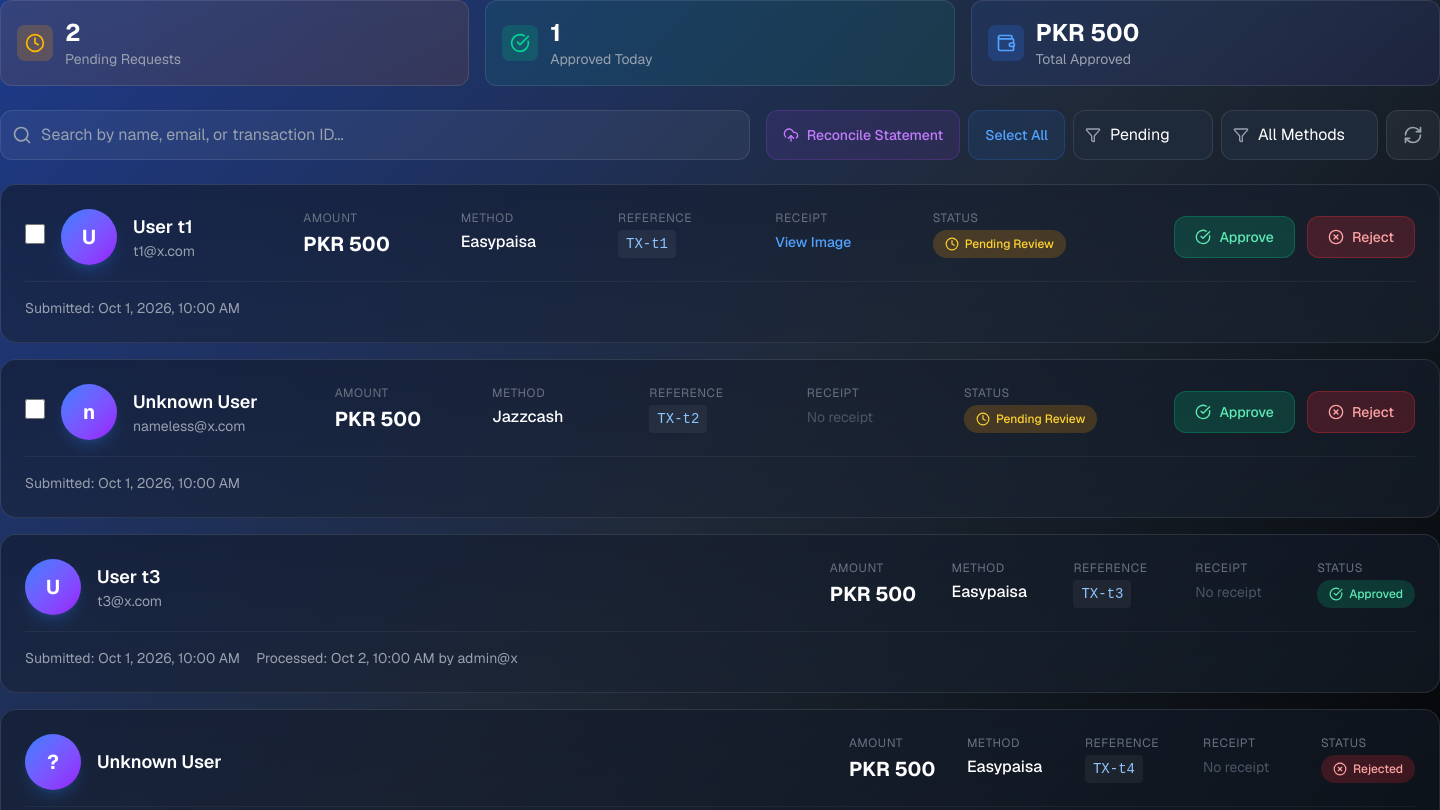
Test: WalletTransactionsManager › selects pending deposits and approves them in bulk
The width and height of the screenshot is (1440, 810).
Click the checkbox in the row of "User t1". click: (35, 234)
box: [25, 224, 45, 244]
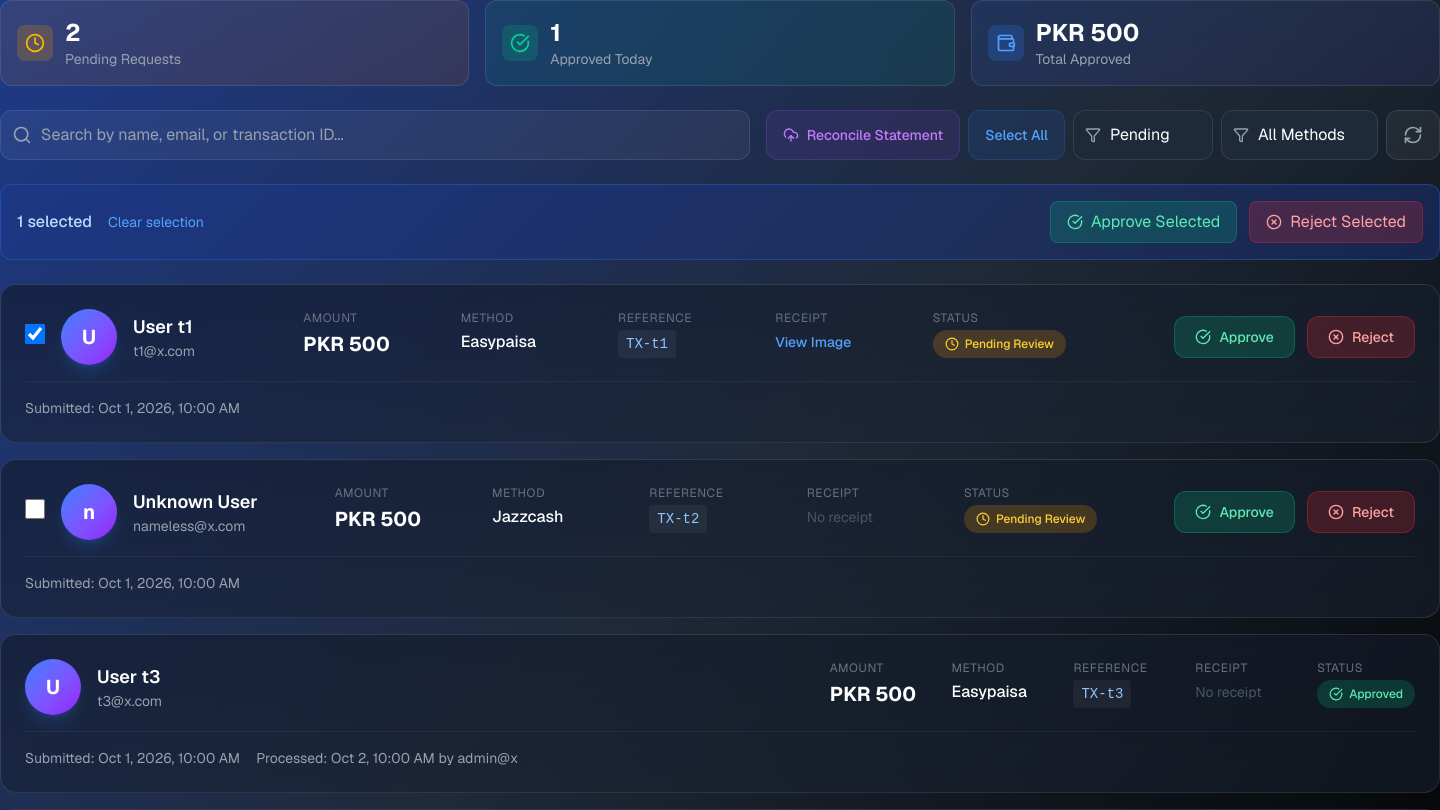
Check: the text "1 selected" is shown, box [17, 210, 92, 234]
Click the checkbox in the row of "User t1". click: (35, 334)
box: [25, 324, 45, 344]
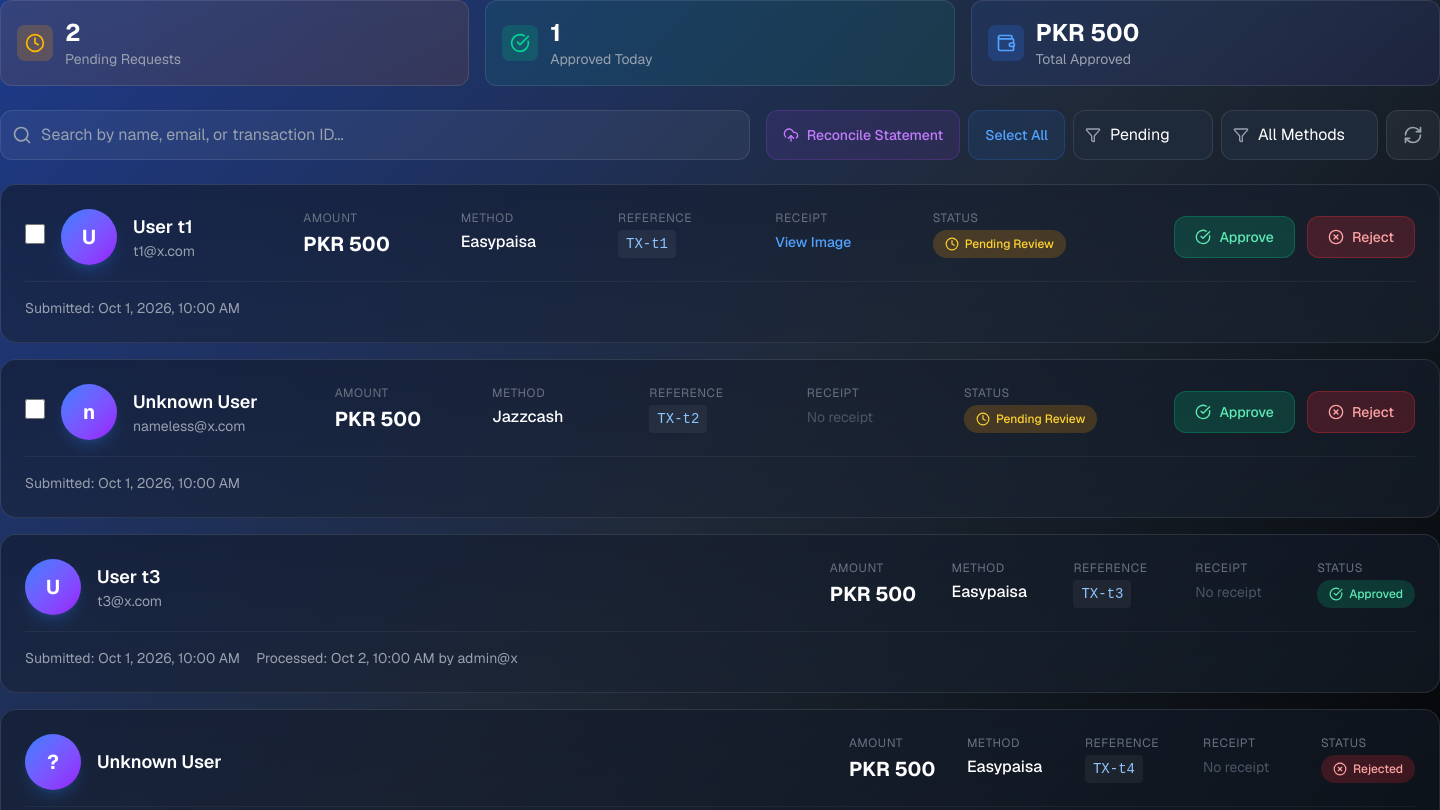
Check: the text "selected" is gone
Click the button titled "Select all pending on this page". click: (1017, 135)
box: [968, 110, 1065, 160]
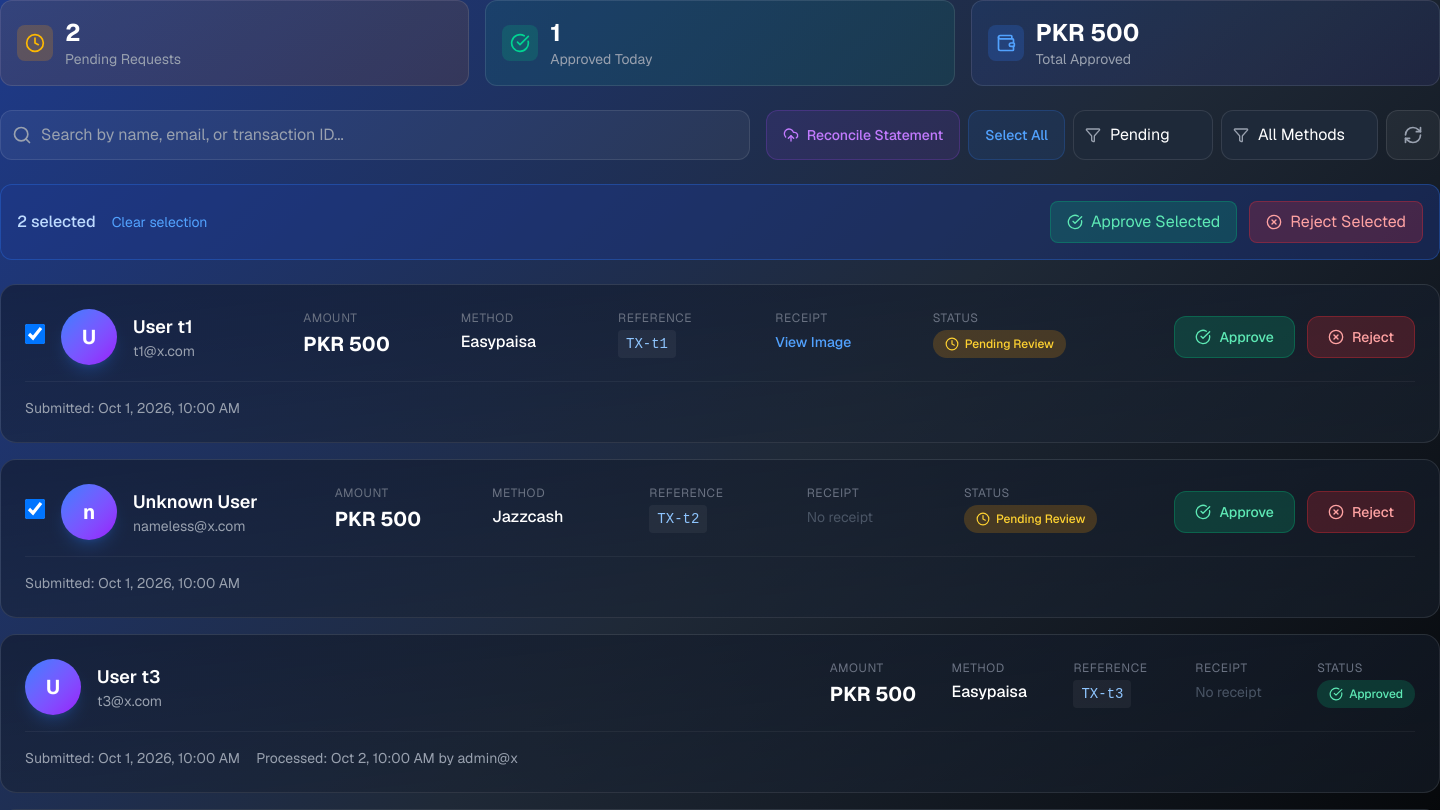
Check: the text "2 selected" is shown, box [17, 210, 96, 234]
Click the button "Clear selection". click: (160, 222)
box: [112, 212, 208, 232]
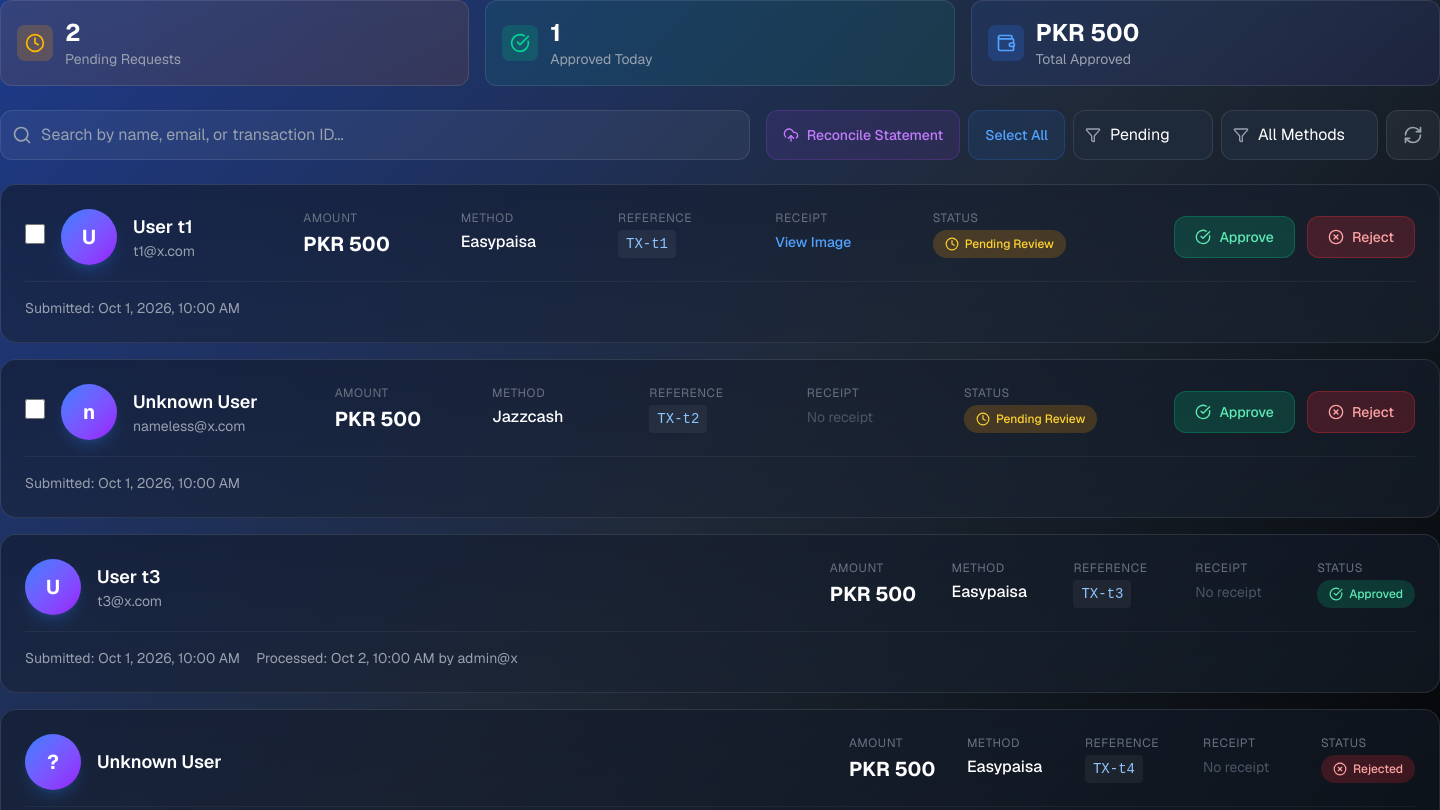
Click the button titled "Select all pending on this page". click: (1017, 135)
box: [968, 110, 1065, 160]
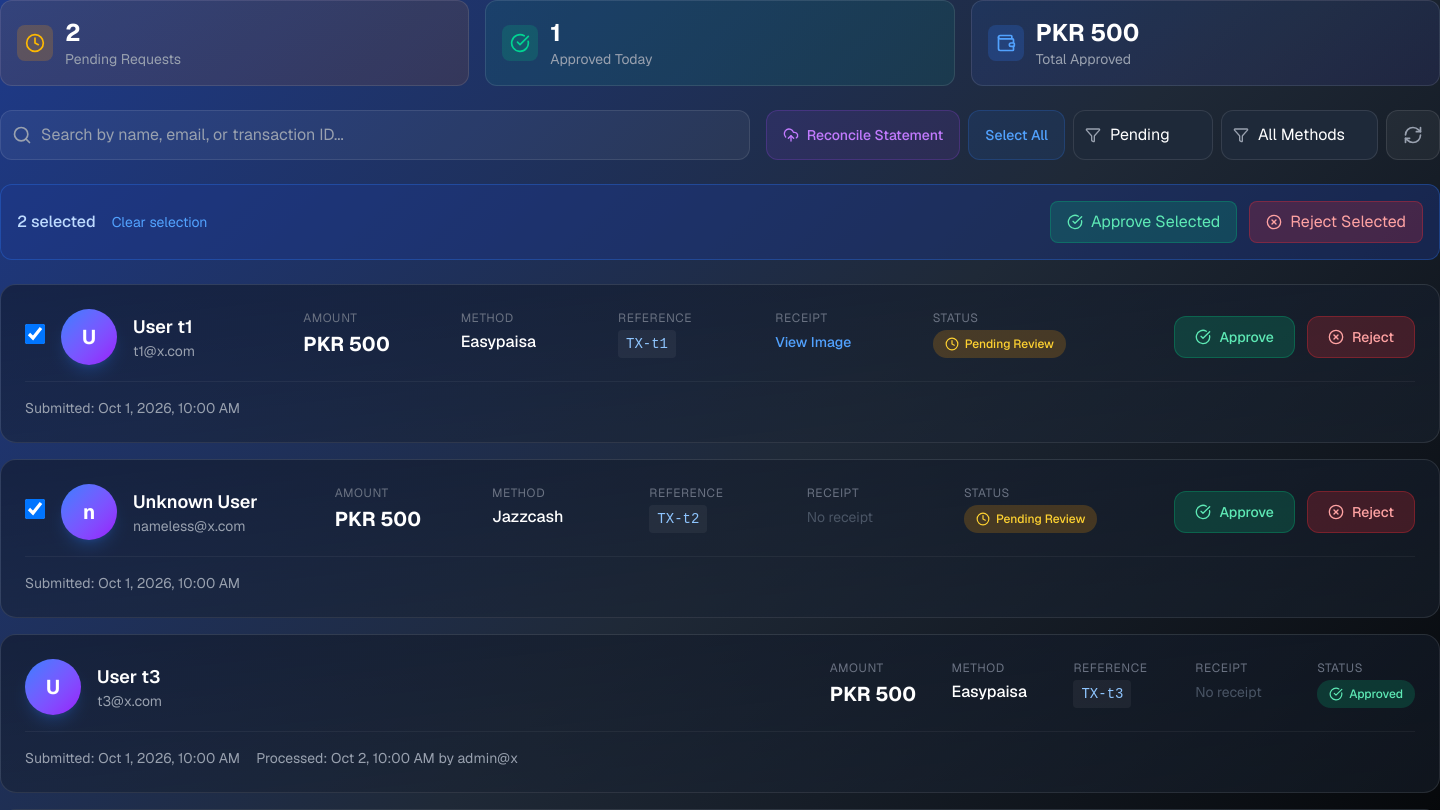
Click the button "Approve Selected". click: (1144, 222)
box: [1050, 201, 1237, 243]
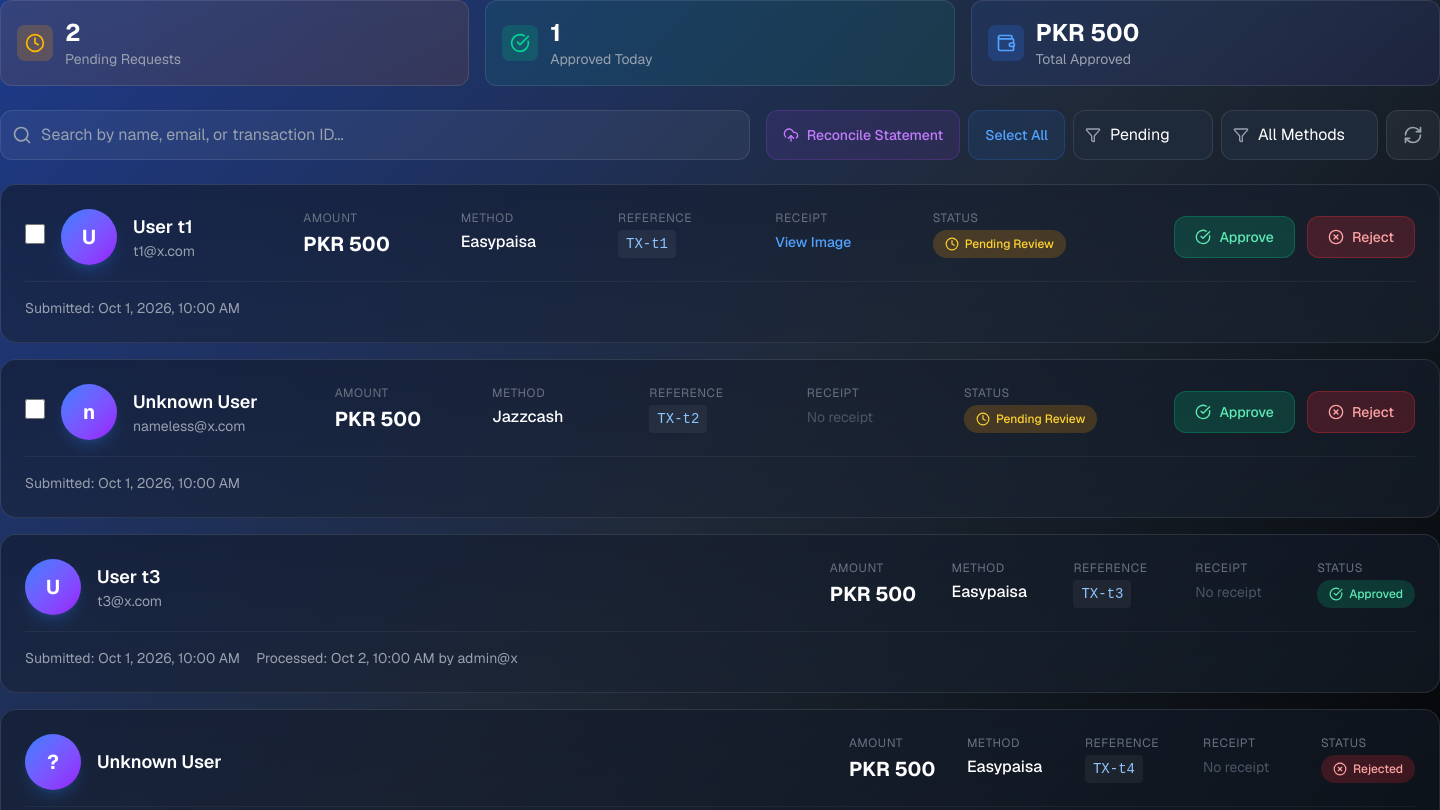
Check: the text "selected" is gone
